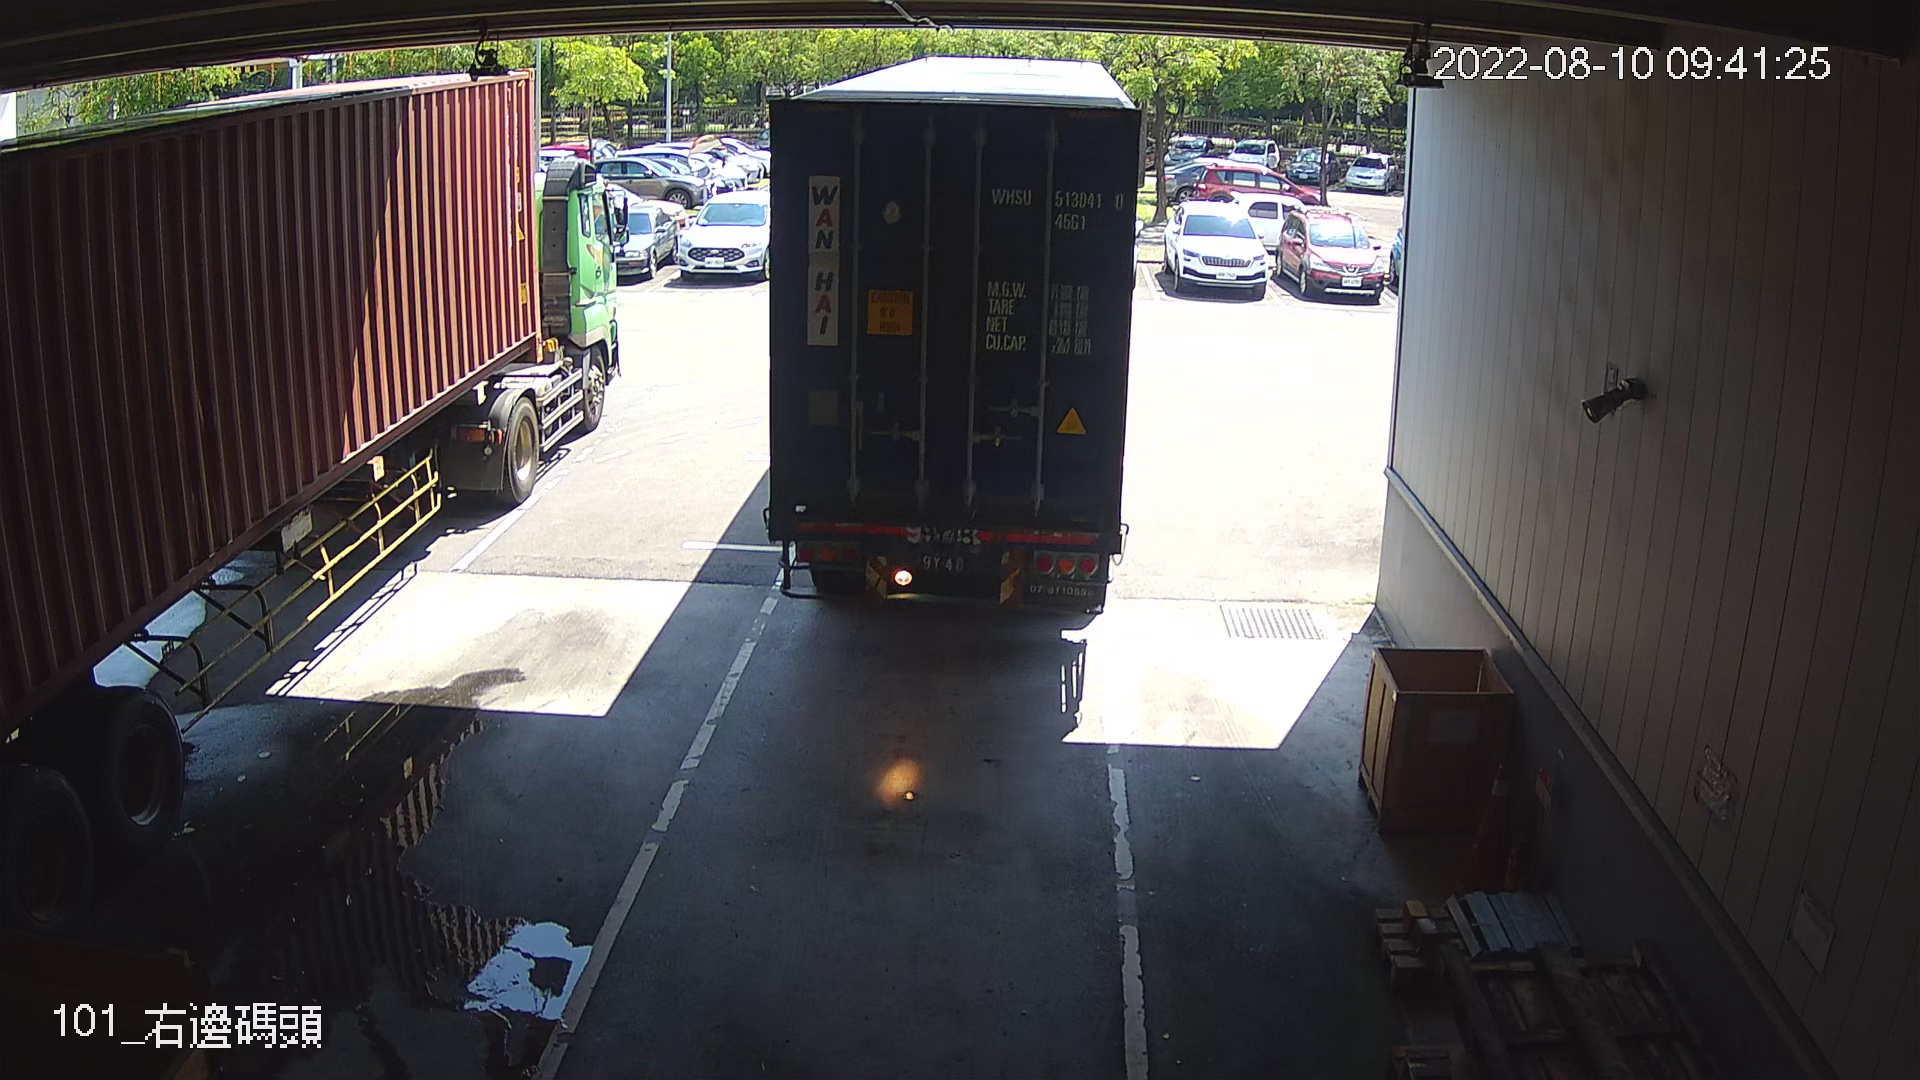container: (985, 179, 1131, 239)
